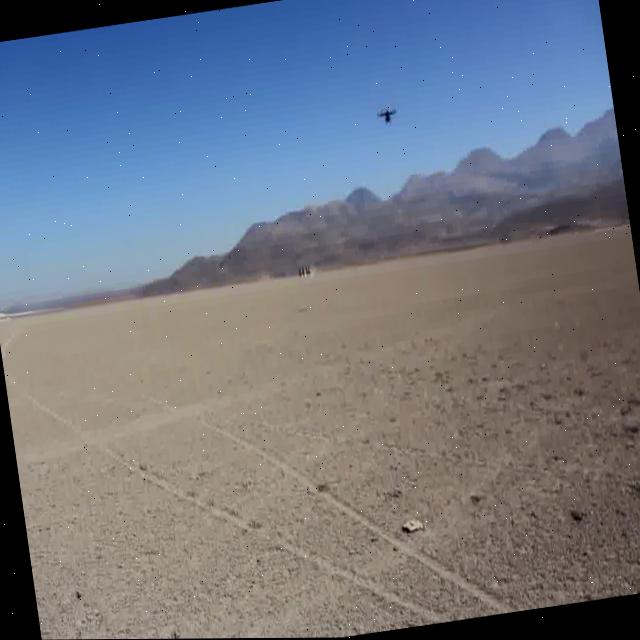drone: (374, 101, 400, 127)
